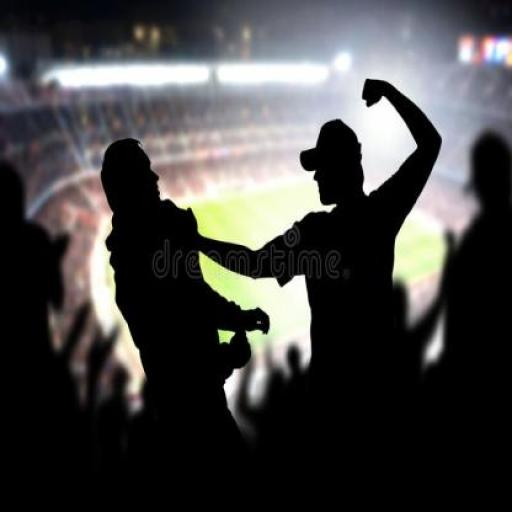Fighting: (100, 77, 449, 428)
